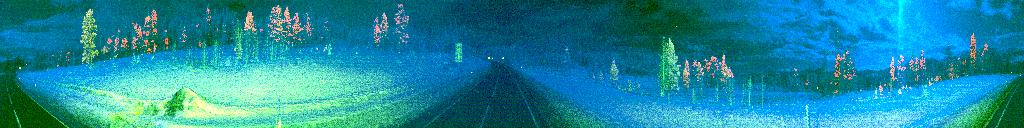pole: (275, 95, 282, 128), (804, 101, 812, 128)
